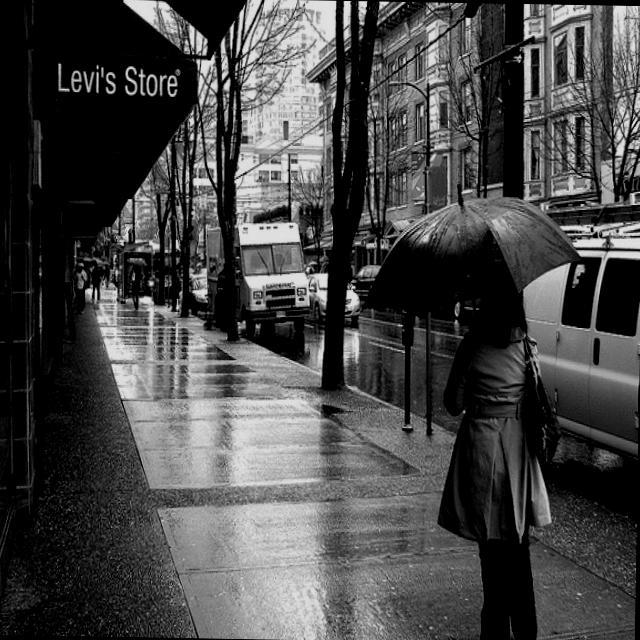Vehicle: (517, 217, 640, 473), (232, 222, 310, 336), (194, 226, 225, 320), (307, 271, 359, 322), (351, 264, 378, 301), (188, 274, 208, 316)
